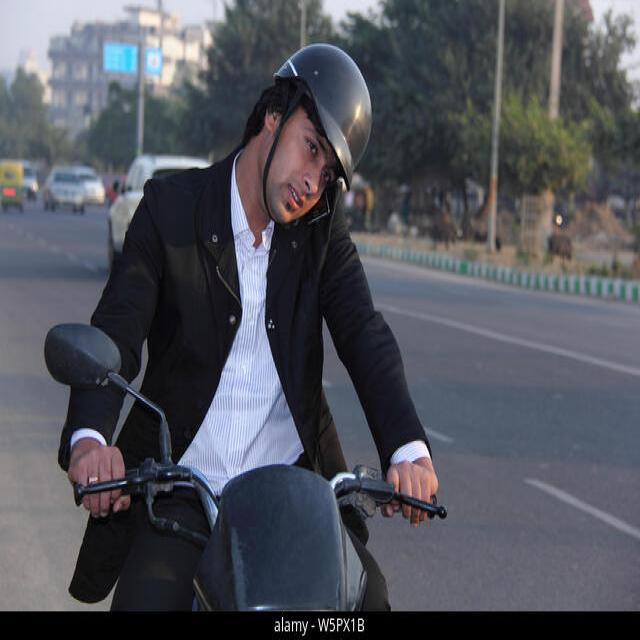Usage Of Phone While Riding: (232, 0, 376, 329)
